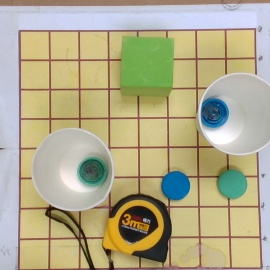blue: (161, 171, 191, 200)
cup_blue: (195, 72, 270, 158)
cup_green: (32, 128, 116, 212)
green: (217, 170, 247, 199)
